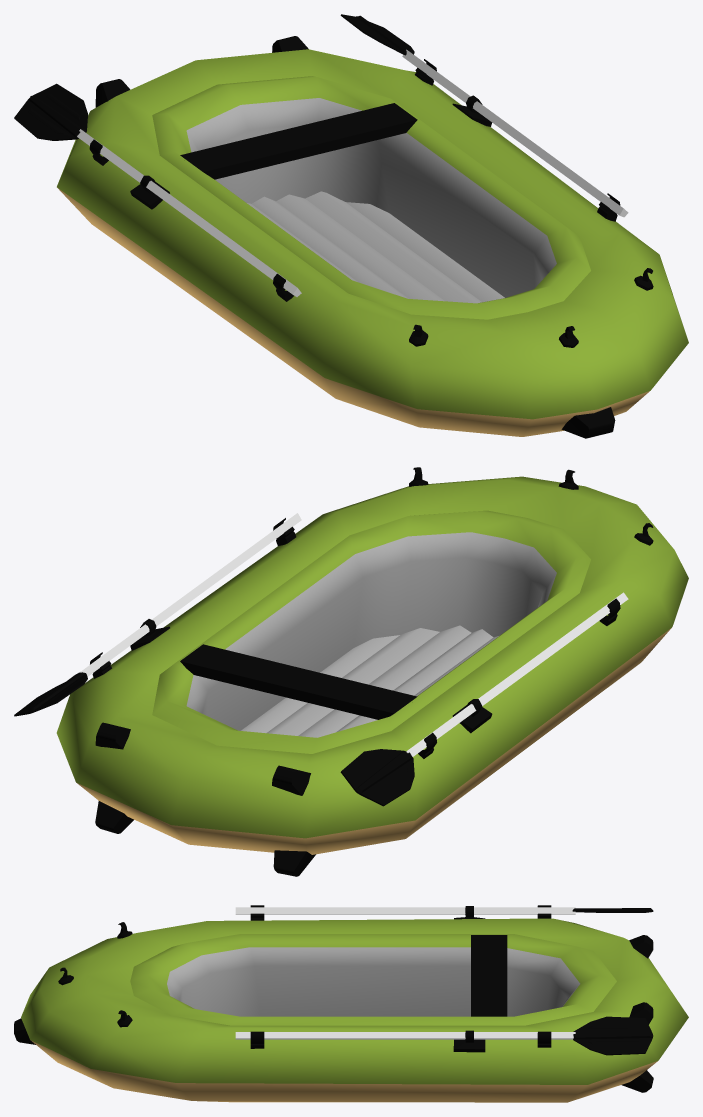
Rendered from yuchuan_2.fbx.
3 renders of one model, top to bottom at view 1: azimuth 30°, elevation 25°; view 2: azimuth 150°, elevation 25°; view 3: azimuth 270°, elevation 25°, orthographic. The views are drawn at different scales.
Visible parts, largest first — view 1: polySurface64; view 2: polySurface64; view 3: polySurface64.
Part boxes in pixels (x1,y1,x2,y2): polySurface64: (14, 14, 688, 438); polySurface64: (14, 467, 688, 876); polySurface64: (14, 905, 688, 1102).
Bounding box in the file's own units: 216 × 67.25 × 431.
